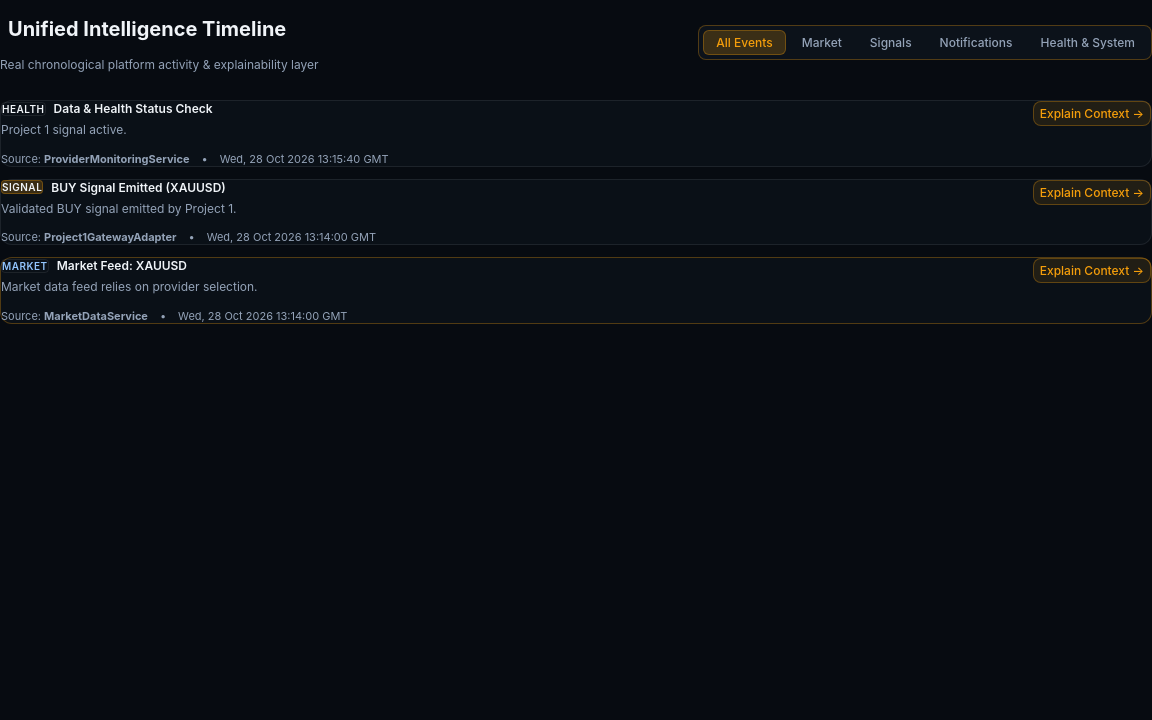
IntelligenceTimeline Component › renders timeline events and opens explainability modal on button click
expect the heading "Unified Intelligence Timeline" is shown: met, box [0,17,319,41]
expect the text "BUY Signal Emitted (XAUUSD)" is shown: met, box [51,180,226,195]
Click the button "Explain Context →" in the row of "Data & Health Status Check". click: (1092, 114)
box: [1033,101,1151,126]
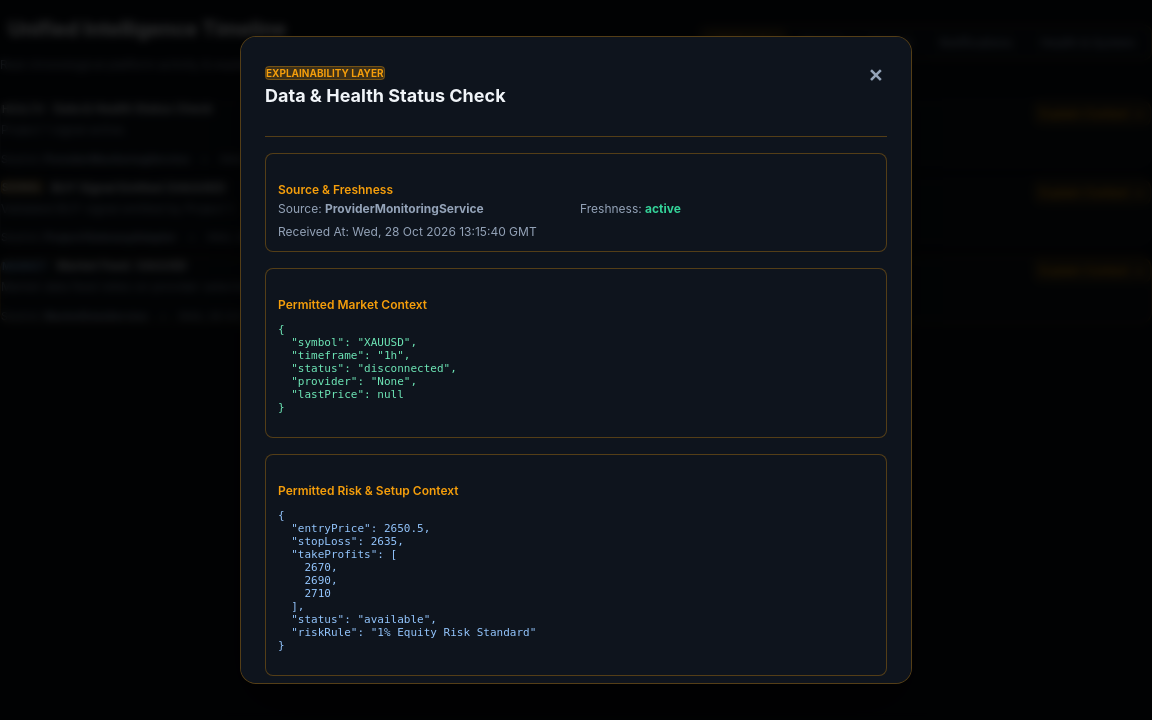
expect the text "Real chronological platform activity & explainability layer" is shown: met, box [0,57,319,72]
expect the heading "Source & Freshness" is shown: met, box [278,182,393,197]
